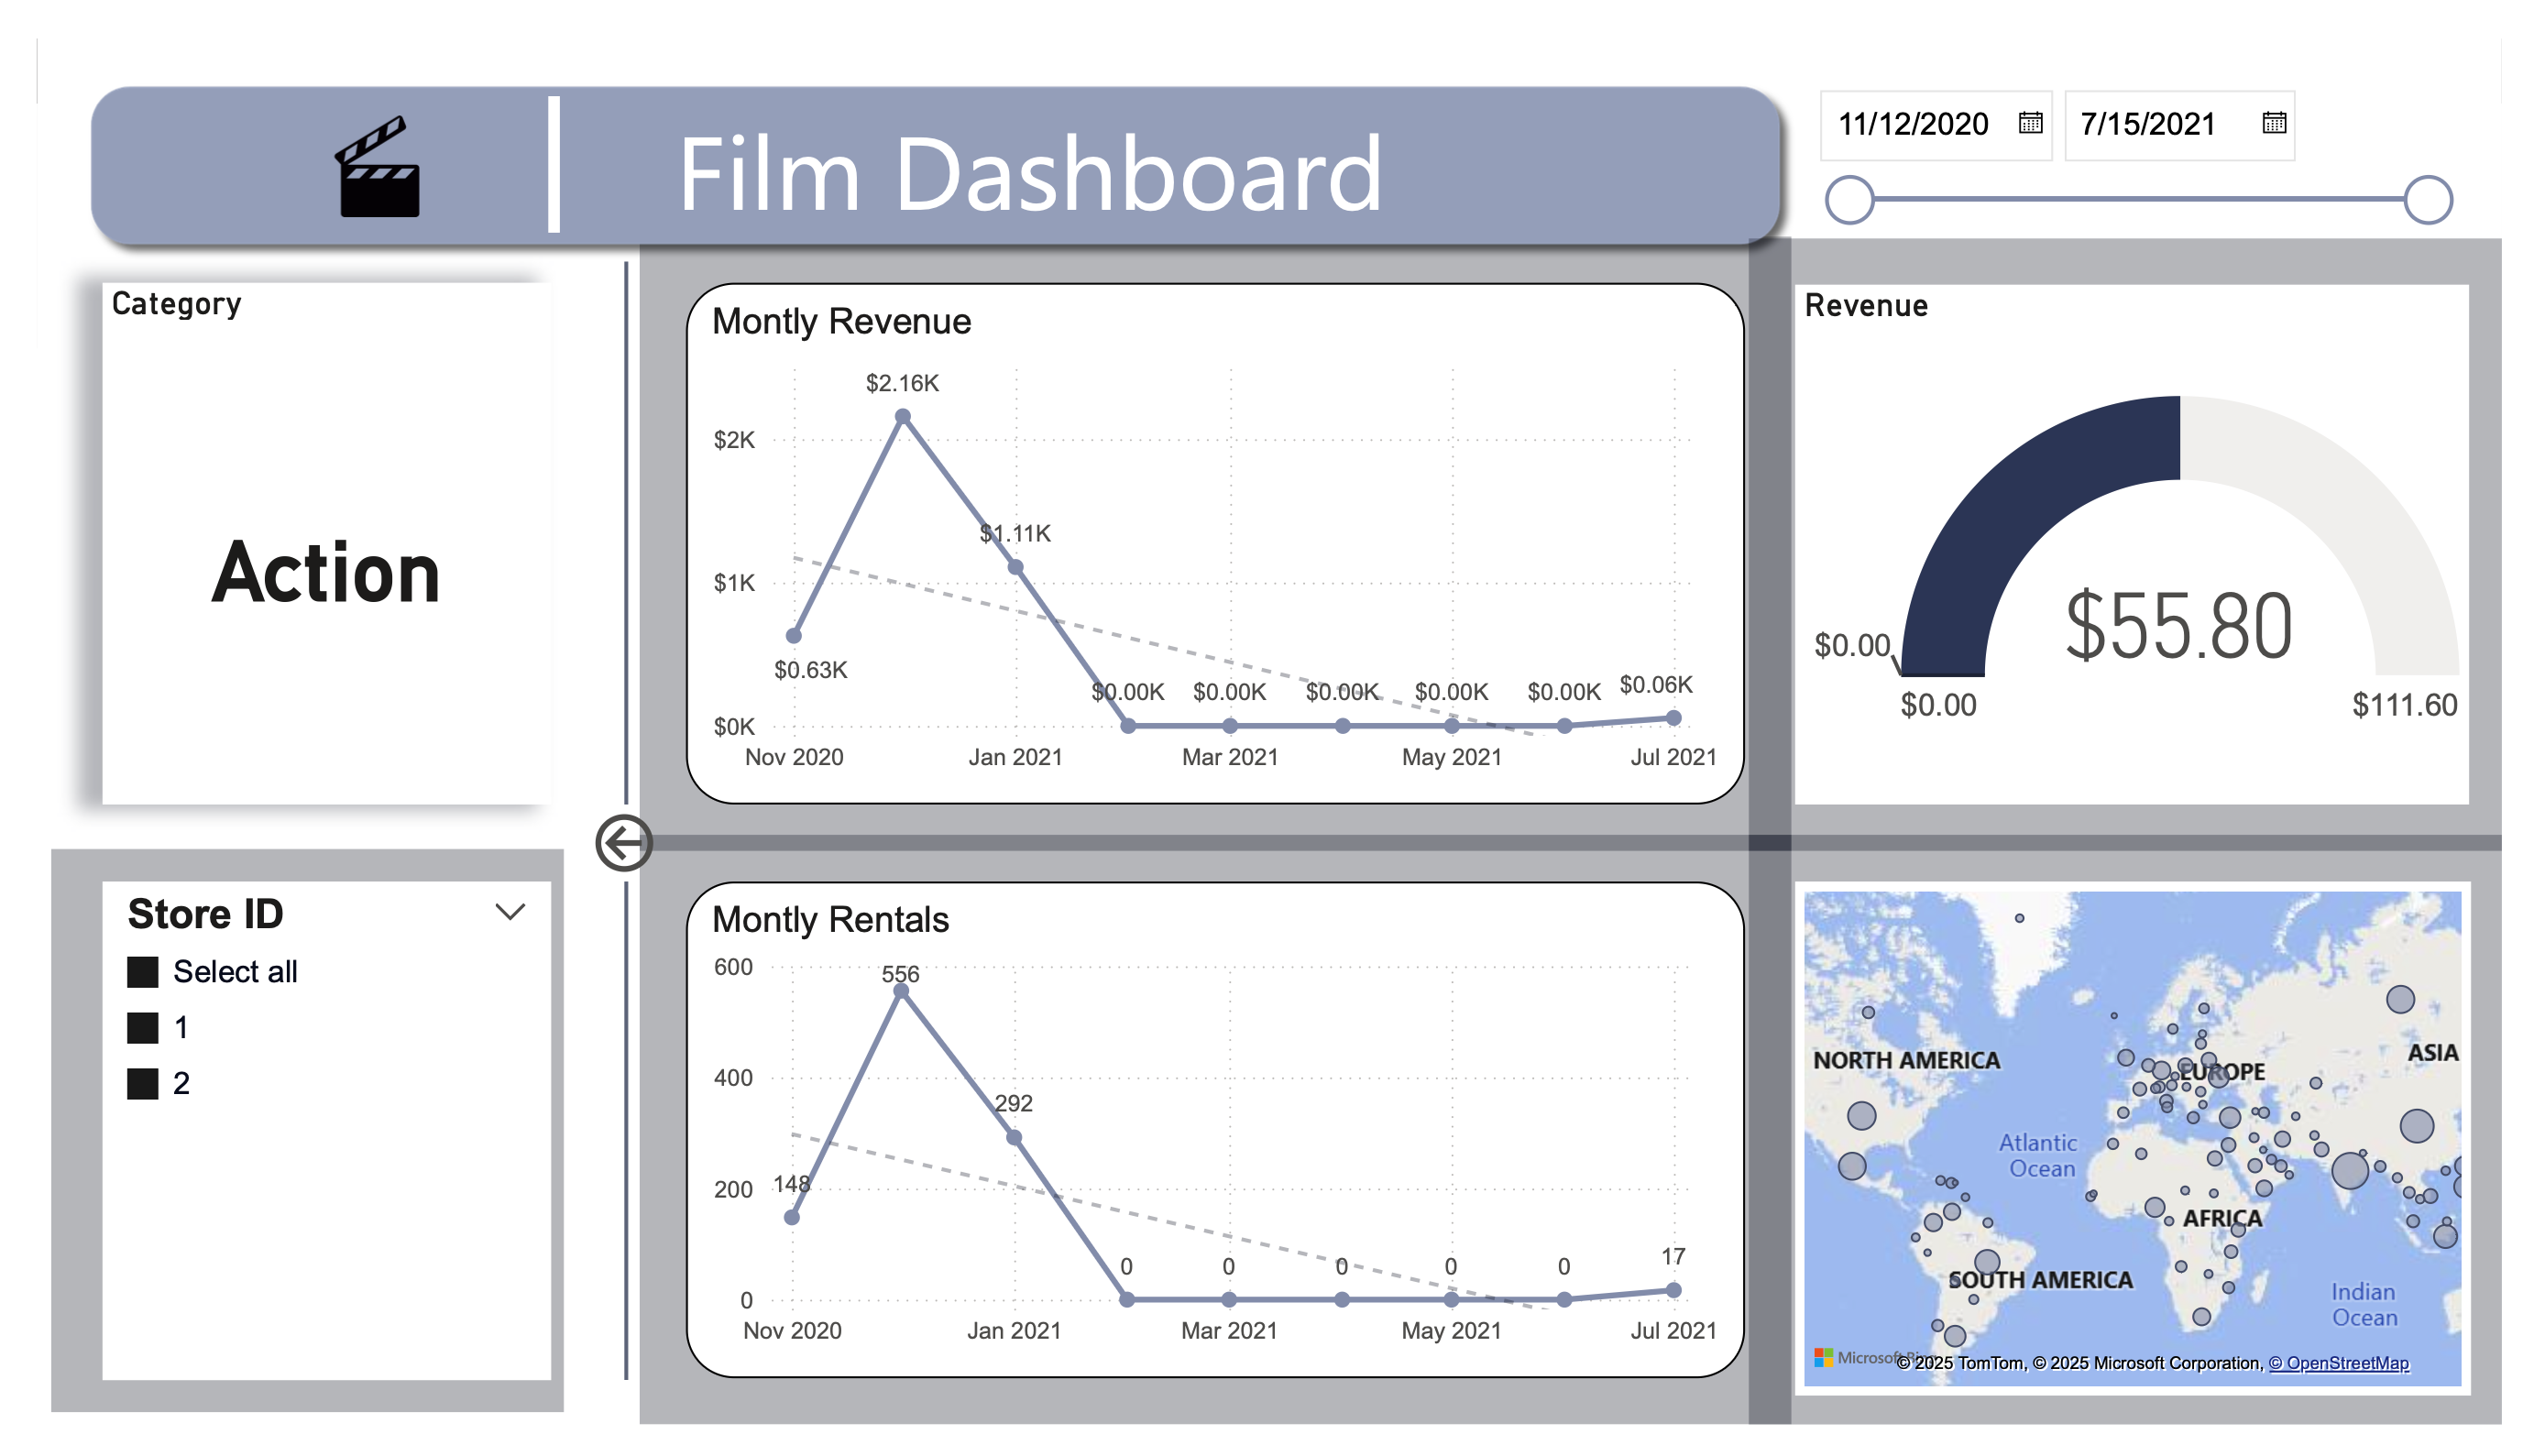

The page's visual inventory and layout, read from the dashboard file:
{"tool":"powerbi","page":{"name":"Film Dashboard","canvas":[1280,720],"ordinal":1},"visuals":[{"type":"shape","title":"Title","box":[18.8,16.2,895,100],"z":0,"group":"g1"},{"type":"map","fields":{"Category":["dim_customer.country"],"Size":["msr.sum_sales"]},"box":[912.7,438.2,350.9,267.3],"z":0},{"type":"image","title":"Film Image","box":[145,32.4,62.5,67.5],"z":1000,"group":"g1"},{"type":"slicer","title":"Date Slicer","fields":{"Values":["dim_date.full_date"]},"box":[913,16.7,350.3,100.4],"z":1000},{"type":"shape","title":"Seperator","box":[252.6,30,31.2,71.2],"z":2000,"group":"g1"},{"type":"card","title":"Category","fields":{"Values":["Min(dim_film.category_name)"]},"box":[33.6,127.3,233.6,270.9],"z":2000},{"type":"lineChart","title":"Montly Revenue","fields":{"Y":["msr.sum_sales"],"Category":["dim_date.month_begin_date"]},"box":[337.3,127.3,550,270.9],"z":3000},{"type":"group","id":"g1","title":"Dashboard Title","box":[18.8,16.2,895,100],"z":4000},{"type":"lineChart","title":"Montly Rentals","fields":{"Category":["dim_date.month_begin_date"],"Y":["msr.total_rentals"]},"box":[337.3,438.2,550,258.2],"z":5000},{"type":"gauge","title":"Revenue","fields":{"Y":["msr.Revenue MTD"],"TargetValue":["msr.Revenue MTD Last Month"]},"box":[913,127.5,350.4,270.6],"z":6000},{"type":"actionButton","box":[284.5,398.2,42.7,40],"z":7000},{"type":"slicer","title":"Category","fields":{"Values":["dim_store.store_id"]},"box":[33.6,438.2,233.6,259.1],"z":8000},{"type":"shape","box":[274.5,116.4,62.7,281.8],"z":9000},{"type":"shape","box":[274.5,438.2,62.7,259.1],"z":10000}]}

Visuals, with their boxes in screenshot pixels (x1, y1, x2, y2), scaled from the page's 1280x720 canvas onto the 2534x1456 screenshot:
"Title" shape: pyautogui.locateOnScreen(38, 33, 1809, 235)
map - dim_customer.country x msr.sum_sales: pyautogui.locateOnScreen(1807, 886, 2502, 1427)
"Film Image" image: pyautogui.locateOnScreen(287, 66, 411, 202)
"Date Slicer" slicer: pyautogui.locateOnScreen(1807, 34, 2501, 236)
"Seperator" shape: pyautogui.locateOnScreen(500, 60, 562, 204)
"Category" card: pyautogui.locateOnScreen(67, 257, 529, 805)
"Montly Revenue" lineChart: pyautogui.locateOnScreen(668, 257, 1757, 805)
"Dashboard Title" group: pyautogui.locateOnScreen(38, 33, 1809, 235)
"Montly Rentals" lineChart: pyautogui.locateOnScreen(668, 886, 1757, 1408)
"Revenue" gauge: pyautogui.locateOnScreen(1807, 257, 2501, 805)
actionButton: pyautogui.locateOnScreen(564, 805, 648, 886)
"Category" slicer: pyautogui.locateOnScreen(67, 886, 529, 1410)
shape: pyautogui.locateOnScreen(543, 235, 667, 805)
shape: pyautogui.locateOnScreen(543, 886, 667, 1410)
